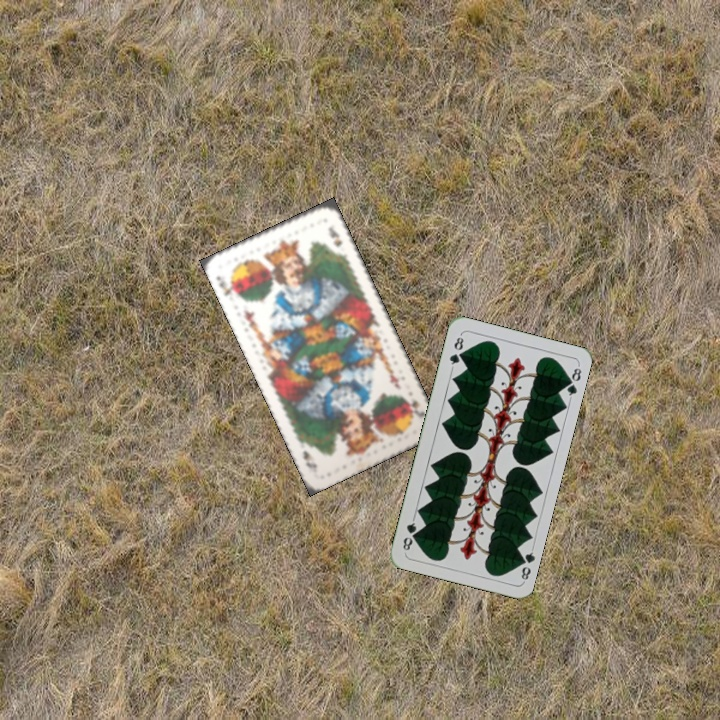G8: (514, 544, 537, 584), (445, 331, 466, 371)
SK: (401, 393, 428, 420), (212, 272, 237, 299)
